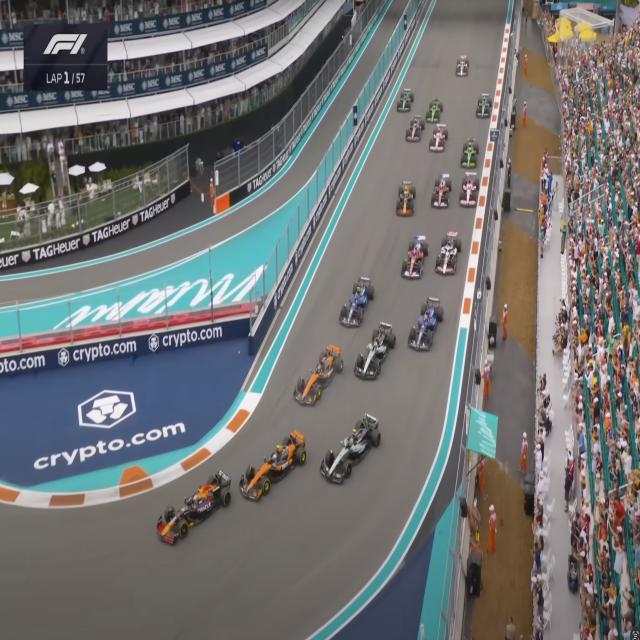Alpine: (406, 114, 424, 144)
Aston Martin: (397, 87, 414, 113), (476, 92, 492, 119)
Ferrari: (401, 233, 429, 282), (431, 172, 452, 210)
Haas: (435, 230, 462, 276), (455, 54, 470, 78)
Kick Sauber: (461, 136, 479, 168), (426, 98, 443, 123)
McLaren: (240, 429, 307, 504), (294, 343, 343, 405)
Mercedes: (320, 413, 382, 488), (354, 318, 396, 384)
Racing Bulls: (459, 171, 480, 209), (429, 123, 448, 154)
Red Bull: (157, 468, 232, 548), (396, 180, 416, 218)
Williams: (407, 294, 444, 354), (340, 274, 374, 329)
